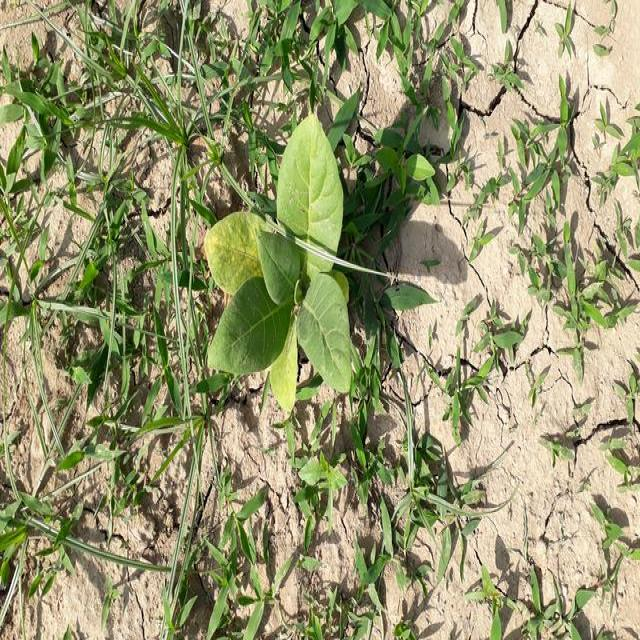crop: (204, 117, 370, 409)
